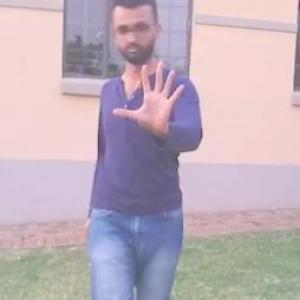follow_hand: (113, 56, 192, 140)
